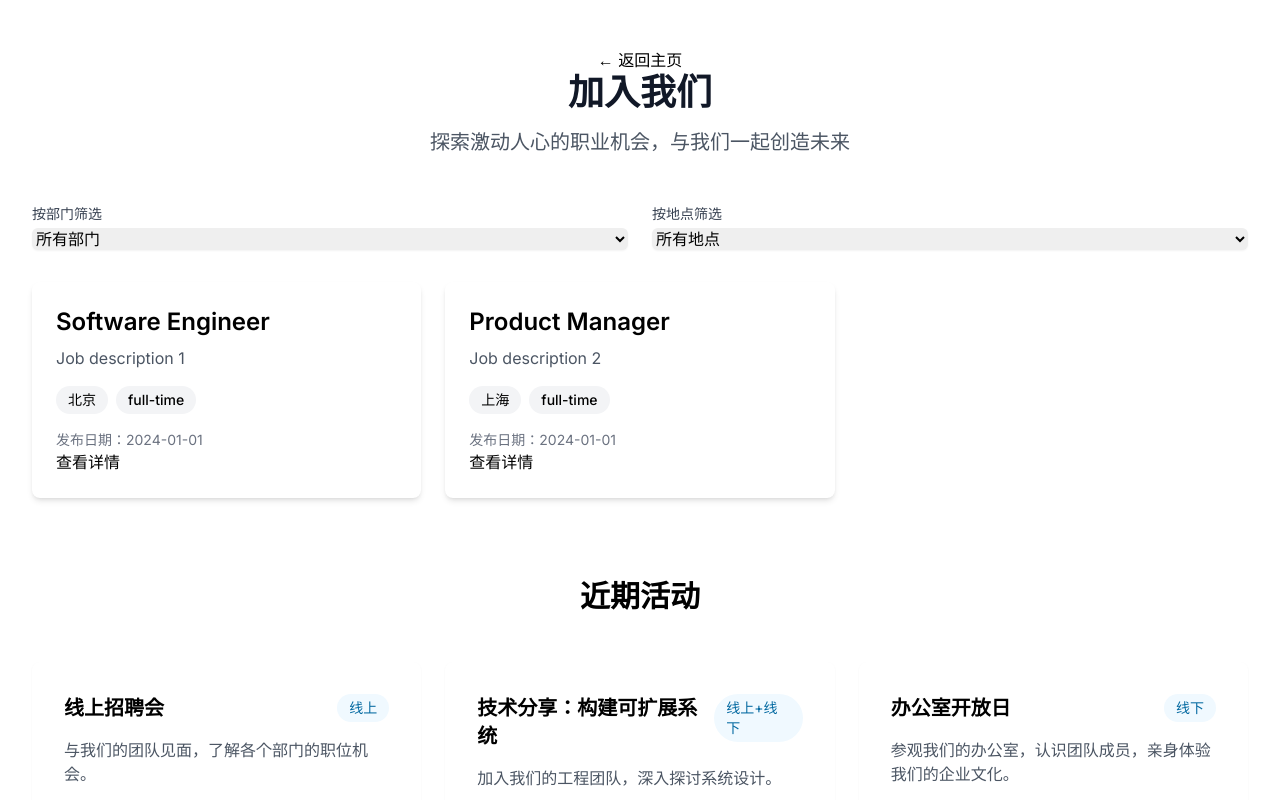
Scenario: JobsPage › filters jobs by location
Note: Select Beijing location
Select "北京" in the dropdown labelled "按地点筛选": x=950, y=239 [652,228,1248,250]
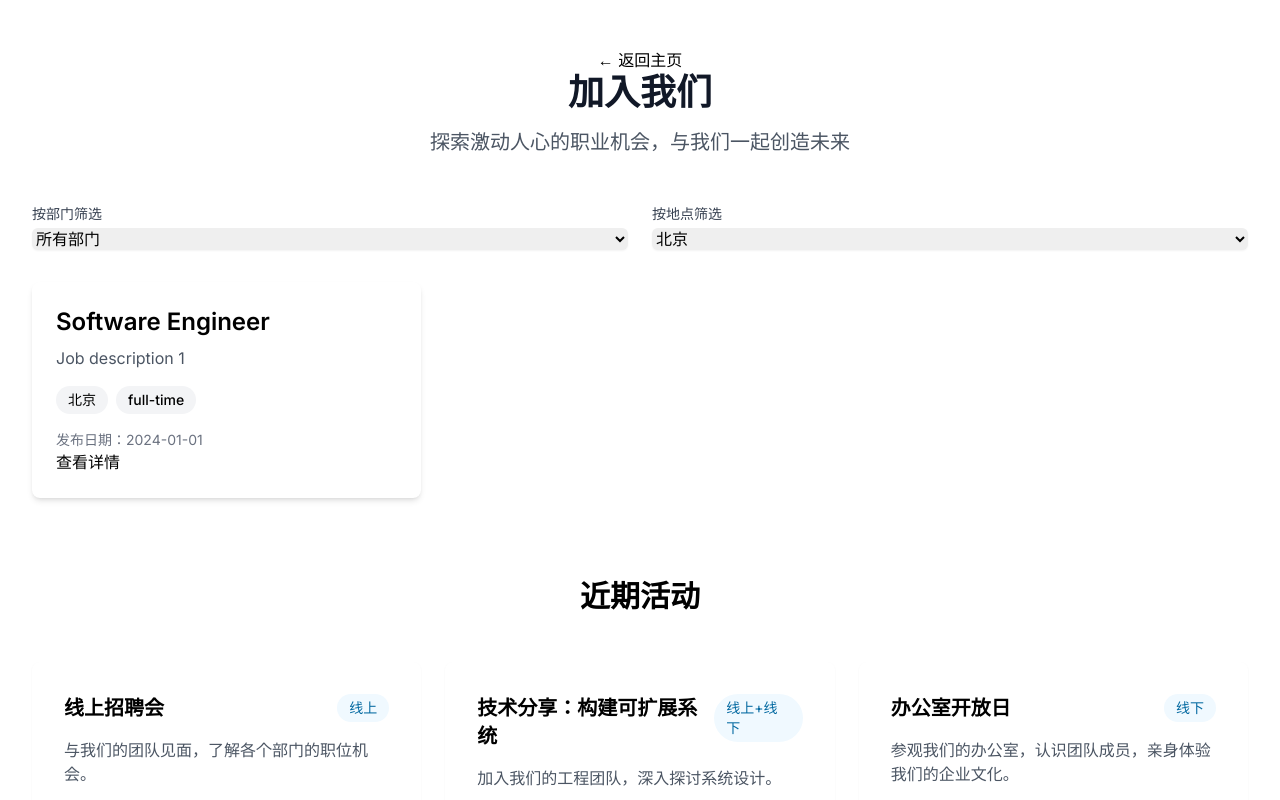
Expected: the heading "Software Engineer" is shown, [56,307,270,336]
Now the heading "Product Manager" is gone
